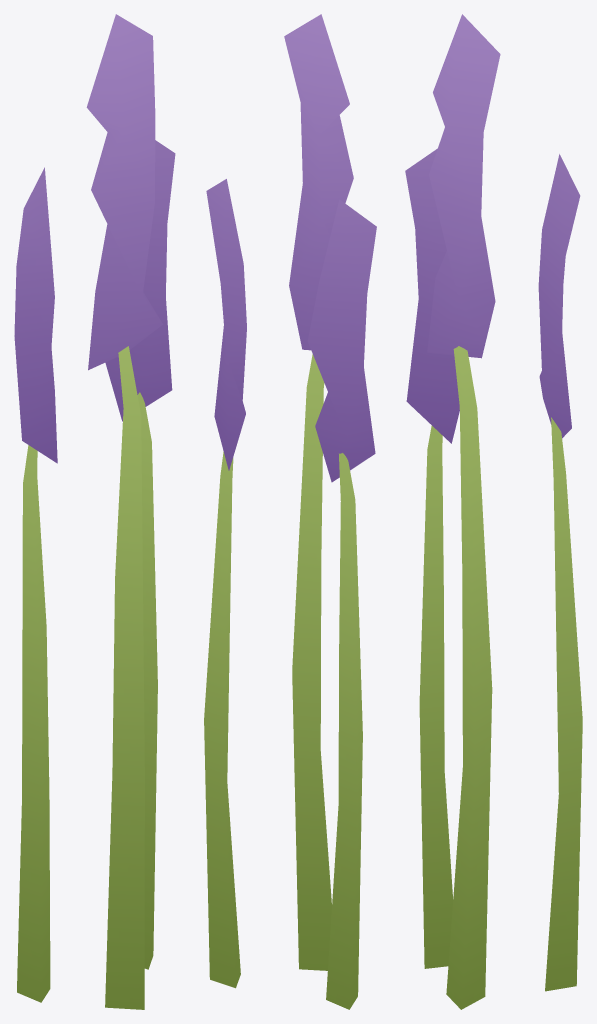
File: Flower_04.glb
3 renders of one model, left to right at view 1: azimuth 30°, elevation 25°; view 2: azimuth 150°, elevation 25°; view 3: azimuth 330°, elevation 25°, orthographic. The views are drawn at different scales.
Parts seen in each view (by area): view 1: Flower_04_LOD0; view 2: Flower_04_LOD0; view 3: Flower_04_LOD0.
Boxes of the visible parts, x1=… form: Flower_04_LOD0: x1=14, y1=14, x2=175, y2=1009; Flower_04_LOD0: x1=204, y1=14, x2=376, y2=1009; Flower_04_LOD0: x1=405, y1=14, x2=582, y2=1009.
Size of what is drawn, in the model's own units: 0.0808 by 0.465 by 0.0511.
1 material, 1 textured.
